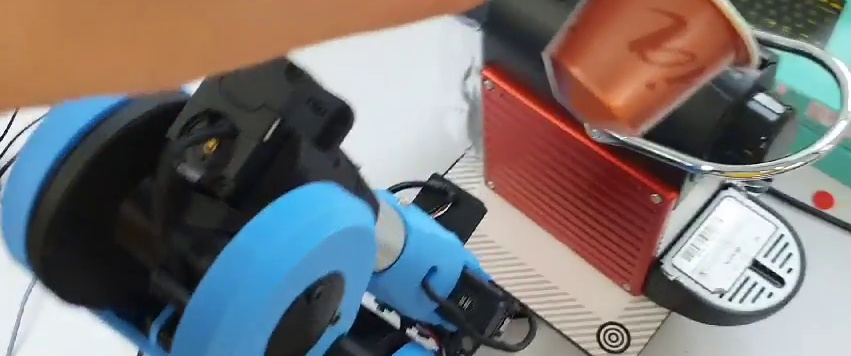capsule_6: (543, 1, 758, 146)
